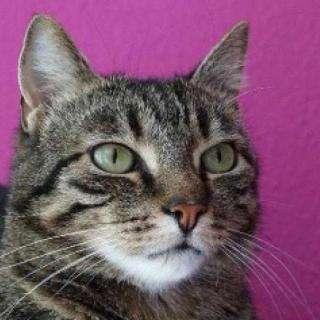cat: (16, 10, 262, 297)
nose: (164, 186, 206, 240)
